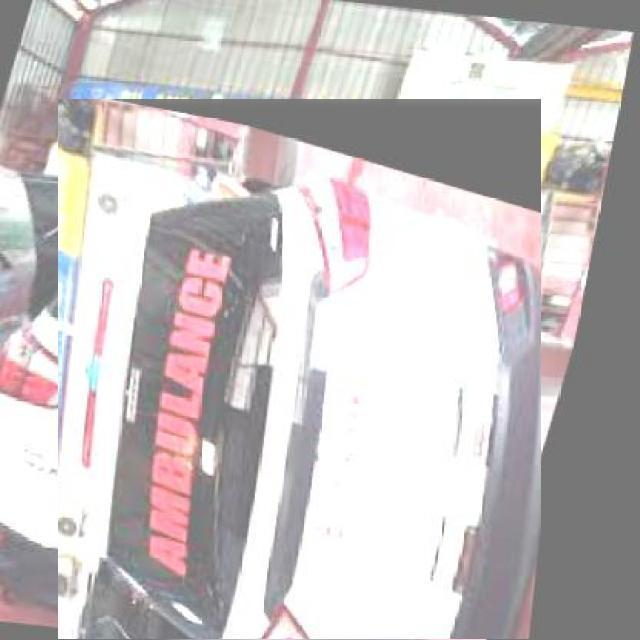emergency-vehicle: (29, 127, 570, 640)
